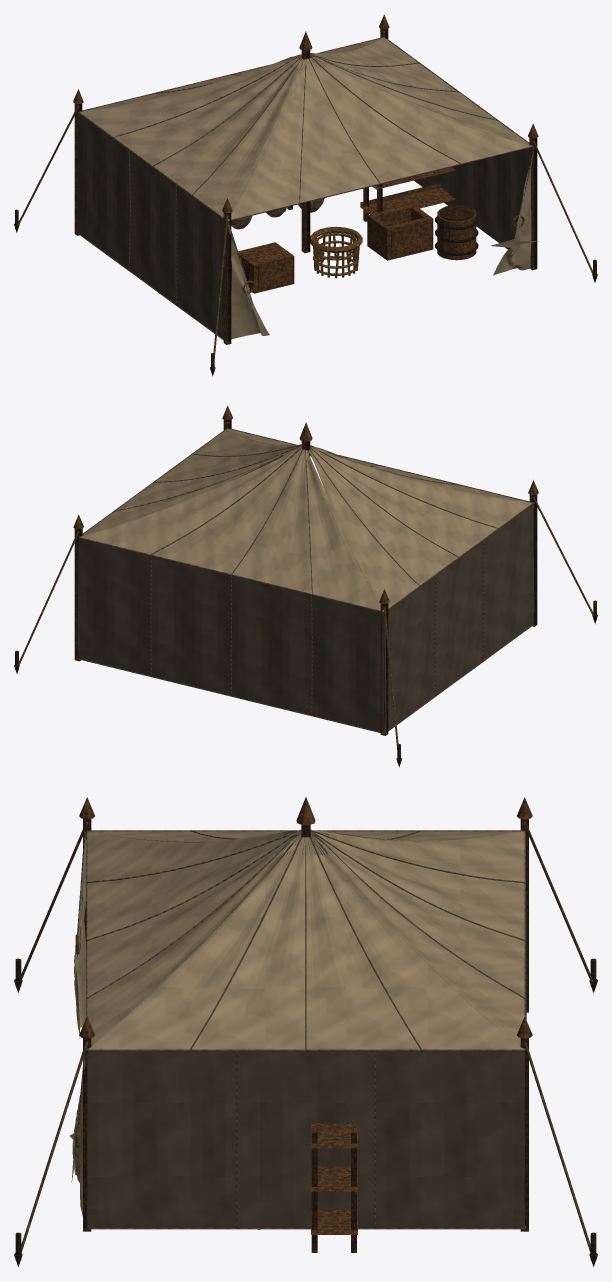
File: medieval_supply_tent_3d_runtime.glb
The picture shows the model from 3 angles, top to bottom: view 1: azimuth 30°, elevation 25°; view 2: azimuth 150°, elevation 25°; view 3: azimuth 270°, elevation 25°; orthographic projection. The views are drawn at different scales.
Parts seen in each view (by area): view 1: SUPPLY_TENT_CLOTH_SUPPLY_ROOF_END_-1, SUPPLY_TENT_CLOTH_SUPPLY_SIDE_-1, SUPPLY_TENT_CLOTH_SUPPLY_ROOF_SIDE_-1, SUPPLY_TENT_WOOD_MID_BATCH, SUPPLY_TENT_CLOTH_SUPPLY_ROOF_SIDE_1, SUPPLY_TENT_CLOTH_SUPPLY_SIDE_1, SUPPLY_TENT_CANVAS_DARK_BATCH, SUPPLY_TENT_WOOD_DARK_BATCH, SUPPLY_TENT_WICKER_BATCH, SUPPLY_TENT_CLOTH_SUPPLY_FRONT_WING_-1, SUPPLY_TENT_CLOTH_SUPPLY_FRONT_WING_1, SUPPLY_TENT_ROPE_BATCH (+3 smaller); view 2: SUPPLY_TENT_CLOTH_SUPPLY_REAR, SUPPLY_TENT_CLOTH_SUPPLY_ROOF_END_1, SUPPLY_TENT_CLOTH_SUPPLY_SIDE_-1, SUPPLY_TENT_CLOTH_SUPPLY_ROOF_SIDE_-1, SUPPLY_TENT_CLOTH_SUPPLY_ROOF_SIDE_1, SUPPLY_TENT_CANVAS_DARK_BATCH, SUPPLY_TENT_WOOD_DARK_BATCH, SUPPLY_TENT_CLOTH_SUPPLY_ROOF_END_-1, SUPPLY_TENT_ROPE_BATCH, SUPPLY_TENT_WOOD_MID_BATCH; view 3: SUPPLY_TENT_CLOTH_SUPPLY_SIDE_1, SUPPLY_TENT_CLOTH_SUPPLY_ROOF_SIDE_1, SUPPLY_TENT_CLOTH_SUPPLY_ROOF_END_-1, SUPPLY_TENT_CLOTH_SUPPLY_ROOF_END_1, SUPPLY_TENT_CANVAS_DARK_BATCH, SUPPLY_TENT_WOOD_DARK_BATCH, SUPPLY_TENT_WOOD_MID_BATCH, SUPPLY_TENT_CLOTH_SUPPLY_ROOF_SIDE_-1, SUPPLY_TENT_ROPE_BATCH, SUPPLY_TENT_CLOTH_SUPPLY_FRONT_WING_-1, SUPPLY_TENT_CLOTH_SUPPLY_FRONT_WING_1.
Part boxes in pixels (x1,y1,x2,y2): SUPPLY_TENT_CLOTH_SUPPLY_ROOF_END_-1: [228, 57, 531, 220]; SUPPLY_TENT_CLOTH_SUPPLY_SIDE_-1: [77, 113, 227, 341]; SUPPLY_TENT_CLOTH_SUPPLY_ROOF_SIDE_-1: [79, 55, 303, 219]; SUPPLY_TENT_WOOD_MID_BATCH: [73, 14, 538, 293]; SUPPLY_TENT_CLOTH_SUPPLY_ROOF_SIDE_1: [310, 37, 532, 146]; SUPPLY_TENT_CLOTH_SUPPLY_SIDE_1: [414, 147, 534, 267]; SUPPLY_TENT_CANVAS_DARK_BATCH: [78, 37, 534, 342]; SUPPLY_TENT_WOOD_DARK_BATCH: [14, 28, 597, 376]; SUPPLY_TENT_WICKER_BATCH: [309, 226, 362, 278]; SUPPLY_TENT_CLOTH_SUPPLY_FRONT_WING_-1: [228, 223, 269, 339]; SUPPLY_TENT_CLOTH_SUPPLY_FRONT_WING_1: [490, 152, 538, 275]; SUPPLY_TENT_ROPE_BATCH: [18, 31, 593, 358]; SUPPLY_TENT_CLOTH_SUPPLY_REAR: [78, 538, 384, 732]; SUPPLY_TENT_CLOTH_SUPPLY_ROOF_END_1: [80, 448, 383, 611]; SUPPLY_TENT_CLOTH_SUPPLY_SIDE_-1: [384, 504, 534, 732]; SUPPLY_TENT_CLOTH_SUPPLY_ROOF_SIDE_-1: [308, 446, 532, 610]; SUPPLY_TENT_CLOTH_SUPPLY_ROOF_SIDE_1: [79, 428, 301, 537]; SUPPLY_TENT_CANVAS_DARK_BATCH: [78, 428, 534, 733]; SUPPLY_TENT_WOOD_DARK_BATCH: [14, 419, 597, 767]; SUPPLY_TENT_CLOTH_SUPPLY_ROOF_END_-1: [229, 429, 531, 502]; SUPPLY_TENT_ROPE_BATCH: [18, 422, 593, 749]; SUPPLY_TENT_WOOD_MID_BATCH: [73, 405, 538, 603]; SUPPLY_TENT_CLOTH_SUPPLY_SIDE_1: [87, 1051, 524, 1227]; SUPPLY_TENT_CLOTH_SUPPLY_ROOF_SIDE_1: [88, 837, 523, 1049]; SUPPLY_TENT_CLOTH_SUPPLY_ROOF_END_-1: [87, 830, 297, 1049]; SUPPLY_TENT_CLOTH_SUPPLY_ROOF_END_1: [314, 830, 524, 1049]; SUPPLY_TENT_CANVAS_DARK_BATCH: [77, 829, 526, 1229]; SUPPLY_TENT_WOOD_DARK_BATCH: [14, 819, 597, 1266]; SUPPLY_TENT_WOOD_MID_BATCH: [79, 797, 532, 1234]; SUPPLY_TENT_CLOTH_SUPPLY_ROOF_SIDE_-1: [88, 830, 523, 842]; SUPPLY_TENT_ROPE_BATCH: [19, 821, 592, 1253]; SUPPLY_TENT_CLOTH_SUPPLY_FRONT_WING_-1: [74, 834, 86, 1038]; SUPPLY_TENT_CLOTH_SUPPLY_FRONT_WING_1: [69, 1053, 85, 1216].
Size of the model in its own units: 8.1 by 4.55 by 7.21.
8 materials, 8 textured.
